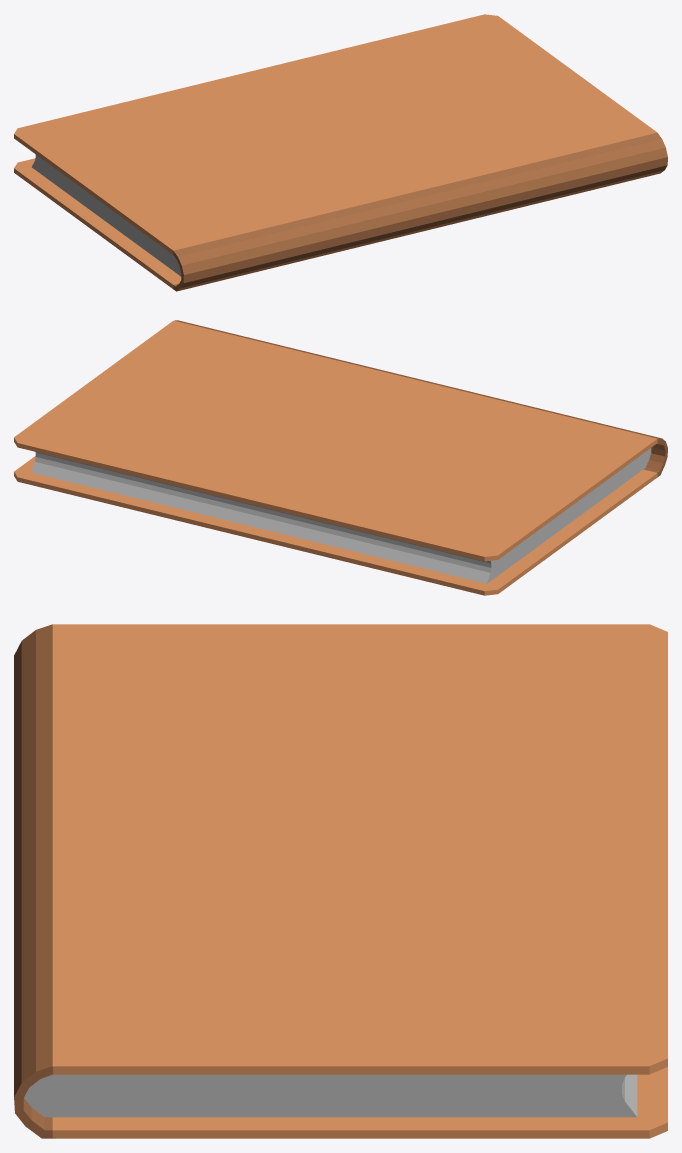
The model's file is LowPolyBook.fbx.
3 renders of one model, top to bottom at view 1: azimuth 30°, elevation 25°; view 2: azimuth 150°, elevation 25°; view 3: azimuth 270°, elevation 25°, orthographic. The views are drawn at different scales.
Parts seen in each view (by area): view 1: Cover, Pages; view 2: Cover, Pages; view 3: Cover, Pages.
Boxes of the visible parts, x1=… form: Cover: x1=14, y1=14, x2=667, y2=291; Pages: x1=32, y1=154, x2=181, y2=276; Cover: x1=14, y1=320, x2=667, y2=595; Pages: x1=31, y1=448, x2=651, y2=583; Cover: x1=14, y1=624, x2=667, y2=1138; Pages: x1=24, y1=1074, x2=637, y2=1117.
Size of the model in its own units: 340 by 26.03 by 213.
